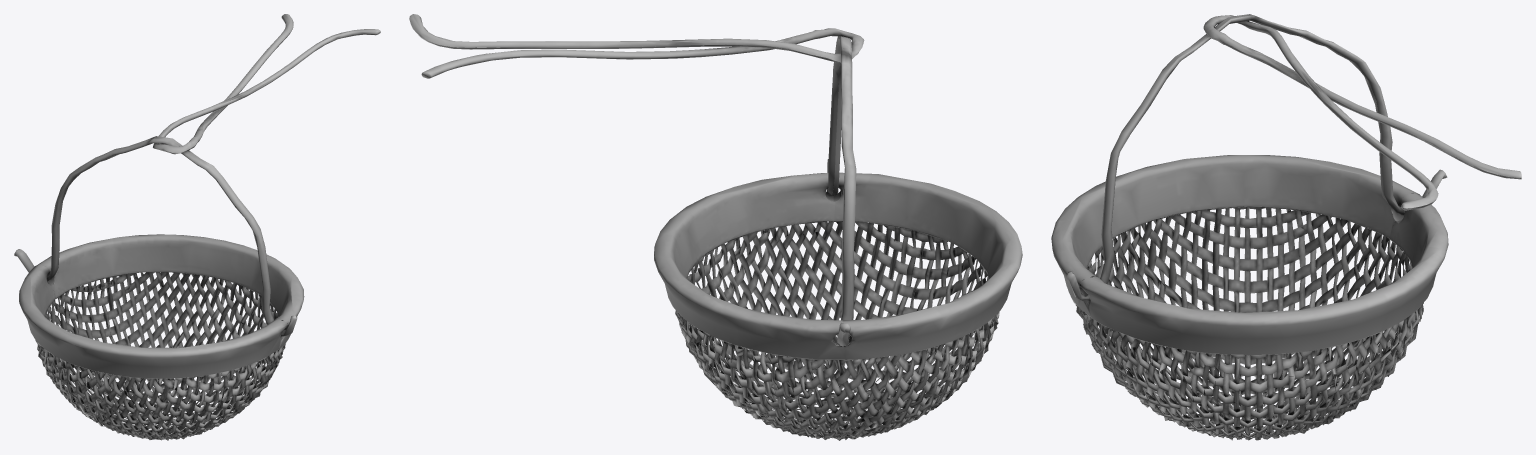
The model's file is percolator.glb.
The picture shows the model from 3 angles, left to right: view 1: azimuth 30°, elevation 25°; view 2: azimuth 150°, elevation 25°; view 3: azimuth 270°, elevation 25°; orthographic projection. The views are drawn at different scales.
Visible parts, largest first — view 1: Object_0; view 2: Object_0; view 3: Object_0.
Part boxes in pixels (left/top/right/bottom): Object_0: left=14, top=14, right=380, bottom=440; Object_0: left=409, top=14, right=1022, bottom=440; Object_0: left=1051, top=14, right=1521, bottom=440.
Size of the model in its own units: 0.4239 by 0.3 by 0.3115.
1 material, 1 textured.
